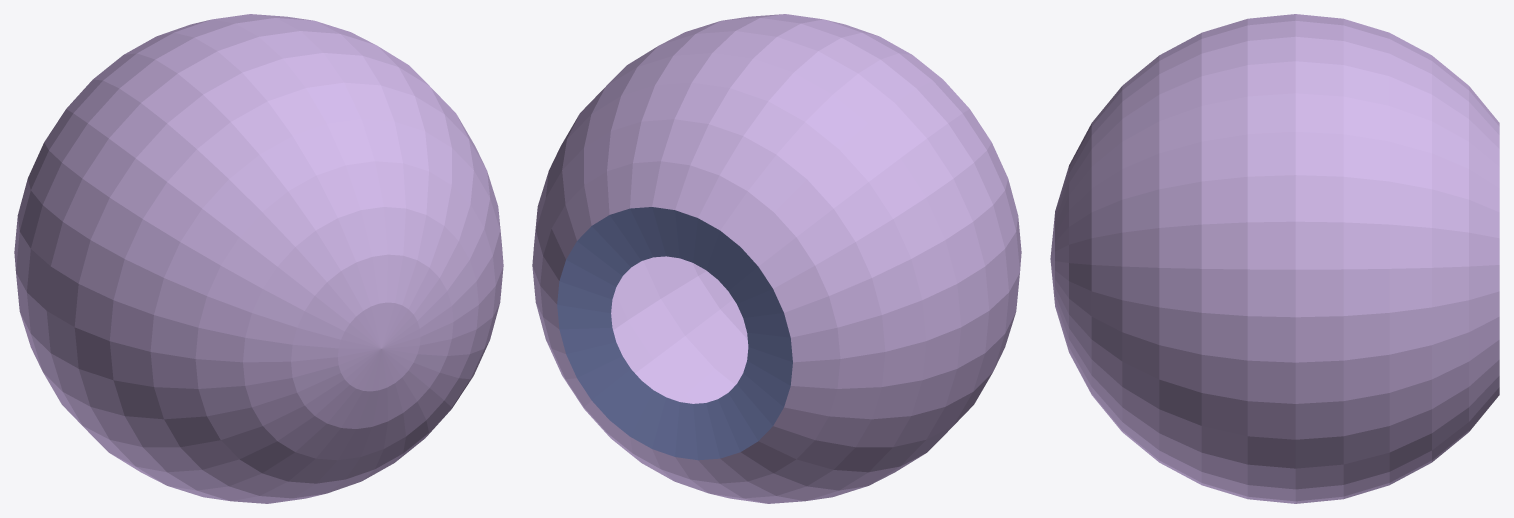
Rendered from inner_eye_placeh.fbx.
The picture shows the model from 3 angles, left to right: view 1: azimuth 30°, elevation 25°; view 2: azimuth 150°, elevation 25°; view 3: azimuth 270°, elevation 25°; orthographic projection.
Parts seen in each view (by area): view 1: Sphere; view 2: Sphere; view 3: Sphere.
Boxes of the visible parts, <box> form: Sphere: <box>14,14,503,503</box>; Sphere: <box>532,14,1021,503</box>; Sphere: <box>1050,14,1499,503</box>.
Bounding box in the file's own units: 440 × 440 × 403.
